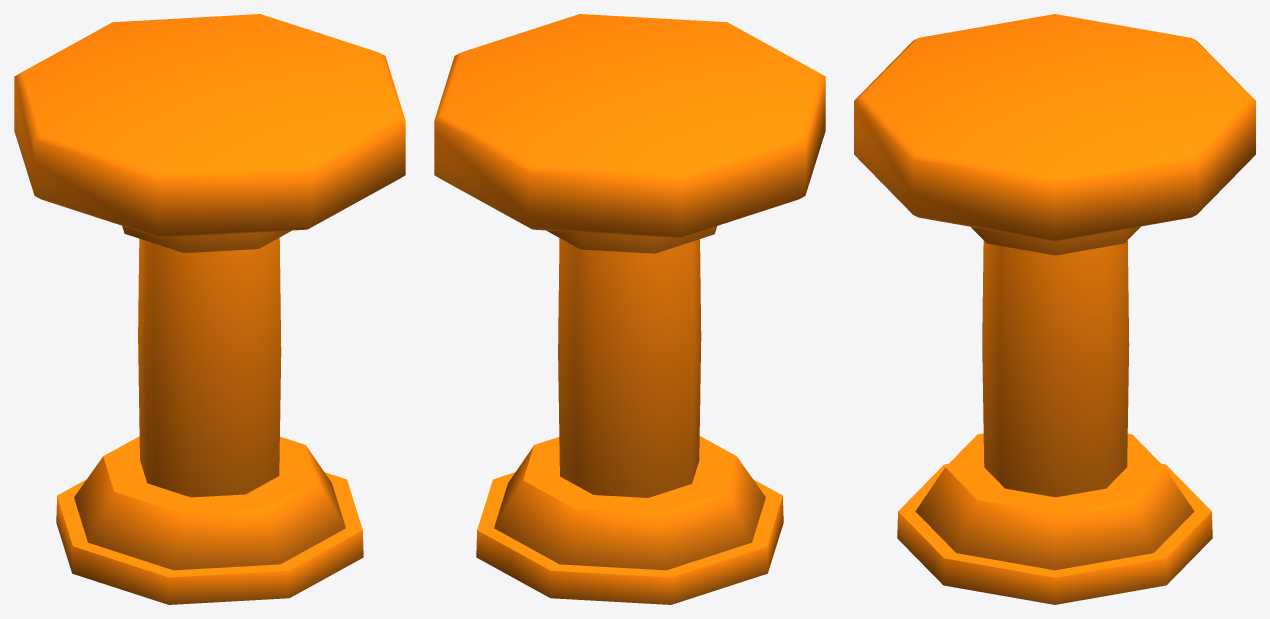
Rendered from bronze_grip_110.glb.
The picture shows the model from 3 angles, left to right: view 1: azimuth 30°, elevation 25°; view 2: azimuth 150°, elevation 25°; view 3: azimuth 270°, elevation 25°; orthographic projection.
Visible parts, largest first — view 1: bronze_grip_110; view 2: bronze_grip_110; view 3: bronze_grip_110.
Boxes of the visible parts, x1=… form: bronze_grip_110: x1=14, y1=14, x2=405, y2=604; bronze_grip_110: x1=434, y1=14, x2=825, y2=604; bronze_grip_110: x1=854, y1=14, x2=1255, y2=604.
Bounding box in the file's own units: 2.72 × 3.31 × 2.72.
1 material, 1 textured.
